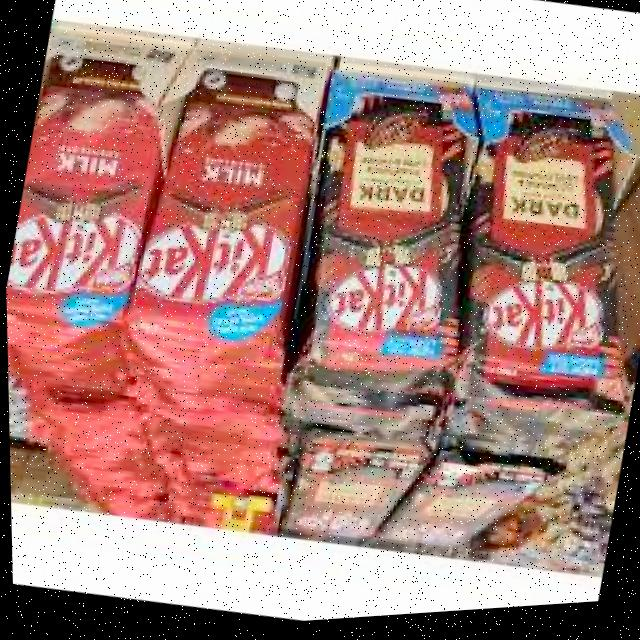kitkat: (280, 84, 503, 414), (122, 57, 339, 396), (437, 113, 640, 428), (1, 41, 170, 361)
